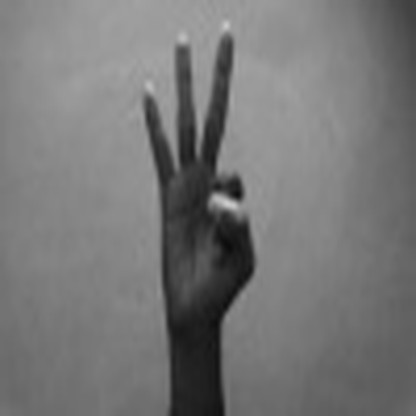f: (129, 15, 266, 322)
